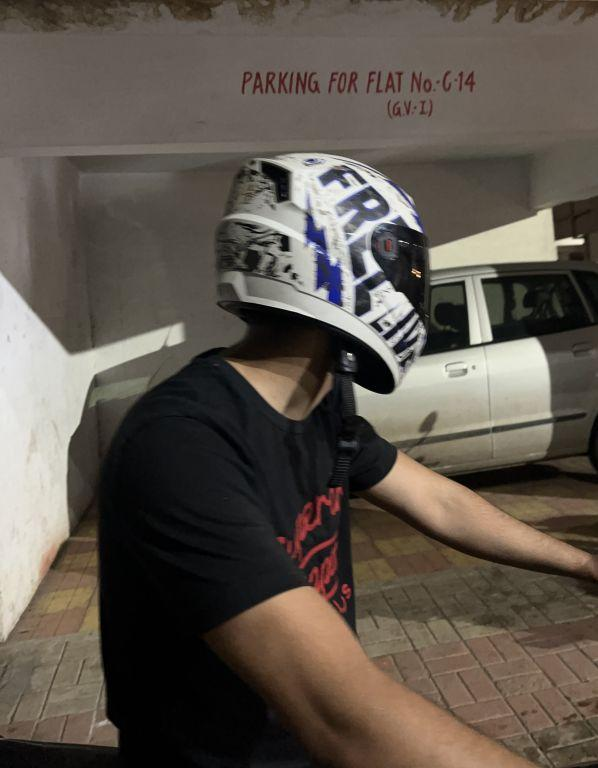helmet: (202, 132, 443, 415)
